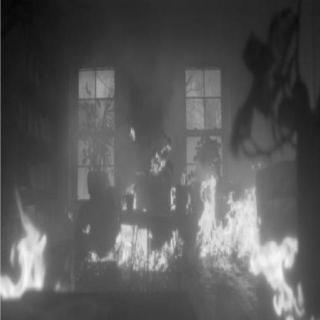Fire: (9, 118, 307, 314)
